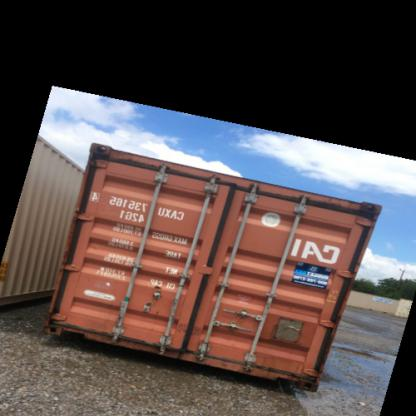Damage: (56, 315, 184, 363), (199, 349, 322, 385), (178, 321, 206, 333)
